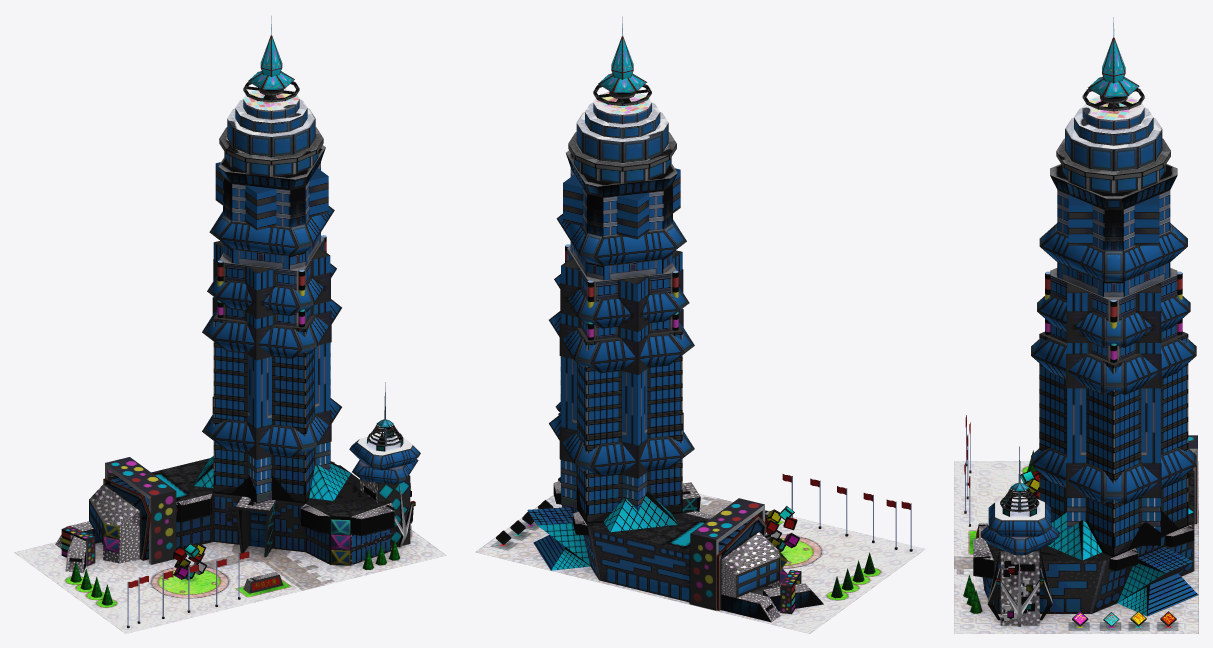
File: kejidasha.FBX
The picture shows the model from 3 angles, left to right: view 1: azimuth 30°, elevation 25°; view 2: azimuth 150°, elevation 25°; view 3: azimuth 270°, elevation 25°; orthographic projection. The views are drawn at different scales.
Parts seen in each view (by area): view 1: kejidasha; view 2: kejidasha; view 3: kejidasha.
Boxes of the visible parts, x1,y1,x2,y2 form: kejidasha: [14, 16, 446, 633]; kejidasha: [475, 16, 925, 633]; kejidasha: [954, 17, 1198, 633].
Size of the model in its own units: 3356 by 5122 by 2014.
1 material, 1 textured.
